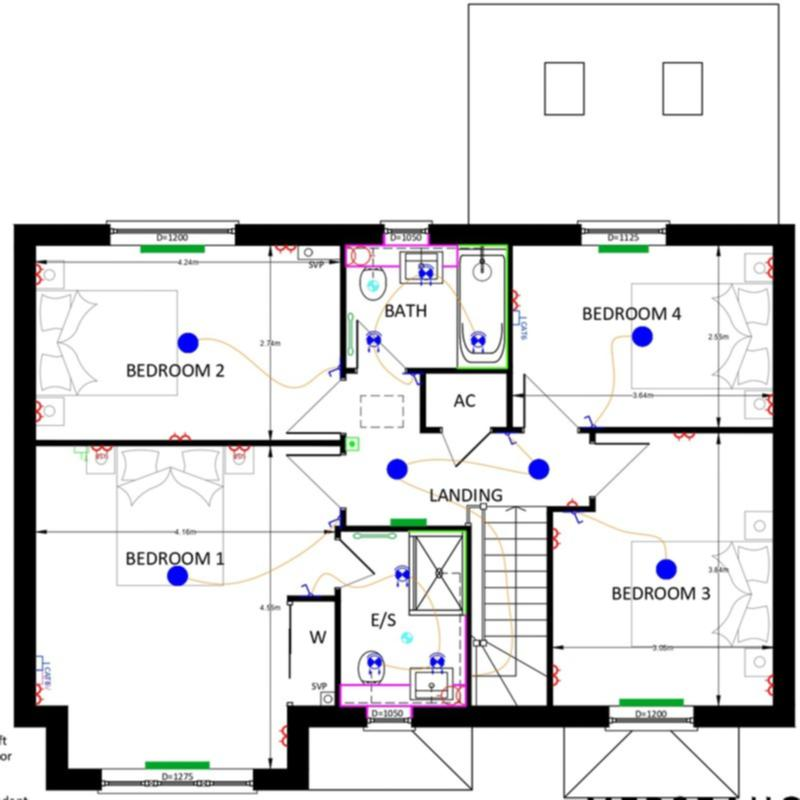Cat 6 Data Socket: (513, 311, 528, 340), (36, 655, 50, 685)
Ceiling Mounted Continuous Extract FanWith Boost Mode Activated By Light Switch: (367, 280, 379, 292), (401, 632, 412, 644)
Co-Ax TV Socket: (36, 670, 51, 690)
Double Socket: (35, 684, 45, 704), (275, 245, 297, 254), (169, 431, 191, 440), (36, 401, 45, 422), (278, 726, 287, 747), (553, 528, 562, 549), (764, 394, 773, 415), (764, 675, 773, 696), (36, 264, 44, 286), (674, 433, 696, 441), (765, 257, 773, 278), (553, 665, 561, 686), (513, 290, 521, 310)
Full Height Tiling: (459, 245, 508, 369), (409, 530, 466, 615)
Light Switch: (504, 432, 518, 446), (571, 512, 585, 524), (583, 415, 596, 427), (300, 584, 314, 595), (328, 366, 340, 378), (328, 516, 340, 528), (411, 373, 420, 385)
Low Energy Downlighter: (470, 331, 487, 353), (367, 652, 383, 675), (418, 264, 434, 286), (429, 652, 445, 674), (366, 331, 382, 352), (394, 565, 409, 587)
Low Energy Pendant Light: (528, 458, 550, 480), (177, 332, 199, 353), (387, 459, 408, 480), (167, 566, 188, 587), (656, 559, 677, 580), (633, 325, 653, 347)
Programmable Room Thermostat: (345, 437, 359, 451)
Radiator: (146, 761, 210, 770), (141, 245, 205, 253), (620, 699, 684, 707), (599, 245, 649, 253), (391, 519, 426, 525)
Shaver Socket: (346, 246, 375, 265), (436, 686, 465, 705)
Single Socket: (567, 498, 577, 507)
Telephone Socket: (74, 446, 89, 461)
USB Double Socket: (91, 446, 114, 459), (229, 446, 250, 459)
